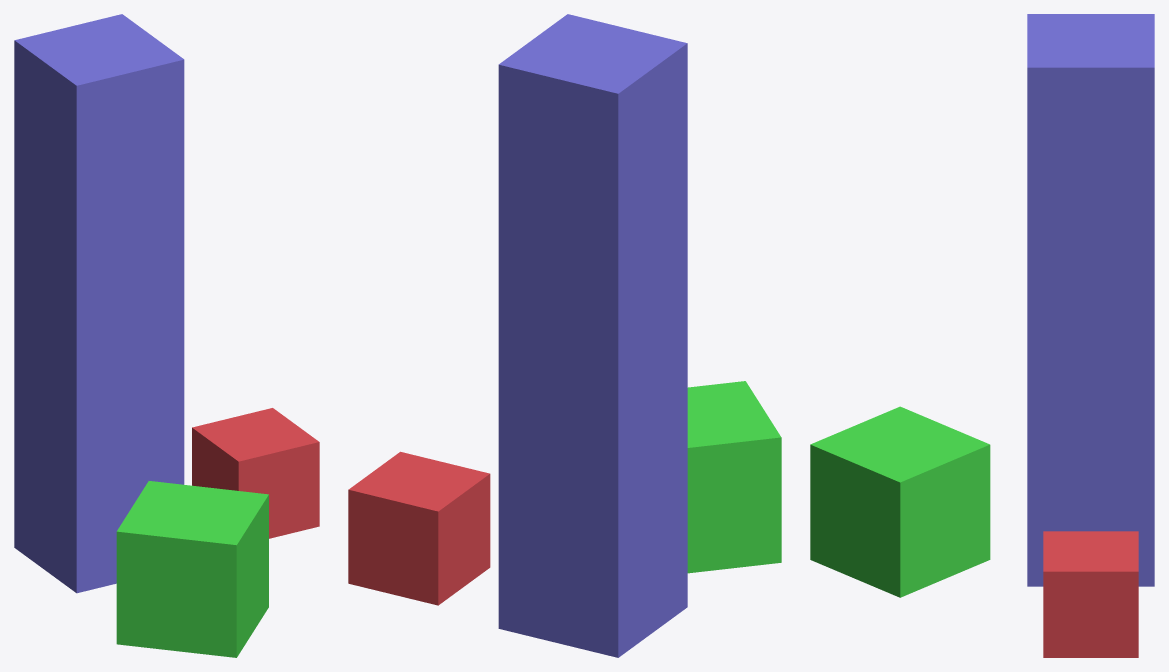
File: cubes.gltf
3 views of the same model, side by side, from view 1: azimuth 30°, elevation 25°; view 2: azimuth 150°, elevation 25°; view 3: azimuth 270°, elevation 25° (orthographic). The views are drawn at different scales.
Visible parts, largest first — view 1: BlueTall, GreenCube, Cube; view 2: BlueTall, Cube, GreenCube; view 3: BlueTall, GreenCube, Cube.
Boxes of the visible parts, x1,y1,x2,y2 form: BlueTall: (14,14,184,593); GreenCube: (116,481,268,657); Cube: (192,408,319,538); BlueTall: (498,14,687,657); Cube: (348,451,490,605); GreenCube: (687,381,781,573); BlueTall: (1027,14,1154,586); GreenCube: (810,406,990,597); Cube: (1043,531,1138,657).
Size of the model in its own units: 50.64 by 90 by 54.14.
